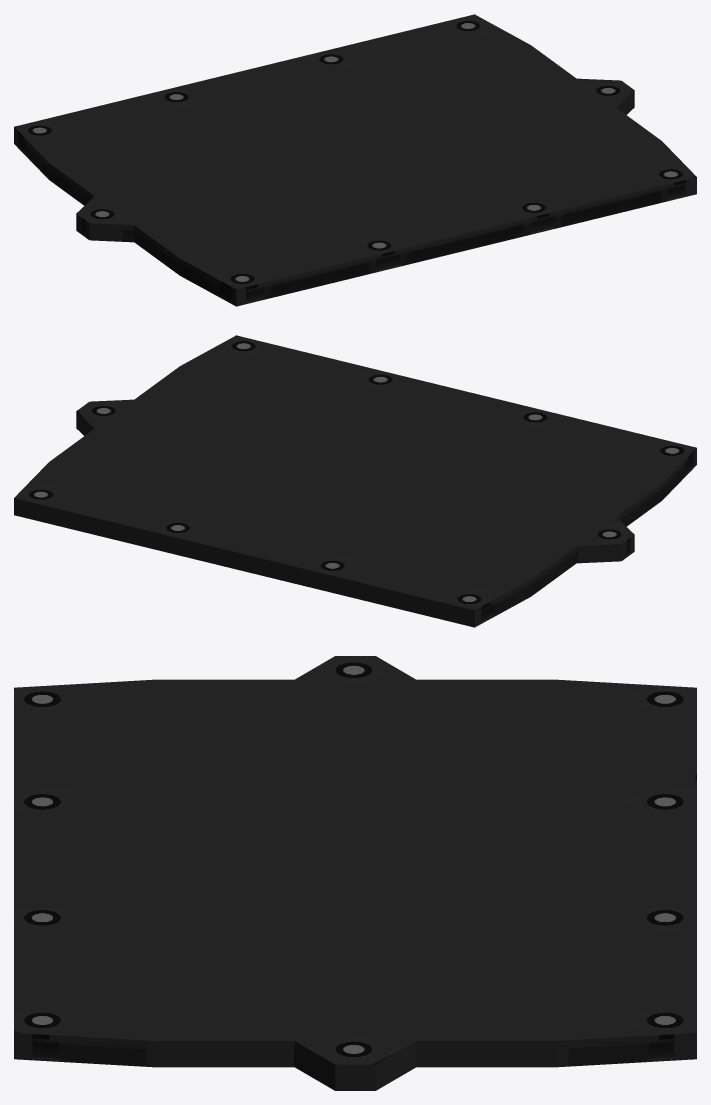
The model's file is hatch.dae.
3 renders of one model, top to bottom at view 1: azimuth 30°, elevation 25°; view 2: azimuth 150°, elevation 25°; view 3: azimuth 270°, elevation 25°, orthographic. The views are drawn at different scales.
Parts seen in each view (by area): view 1: AM3 Application Hatch LP; view 2: AM3 Application Hatch LP; view 3: AM3 Application Hatch LP.
Boxes of the visible parts, left/top/right/bottom form: AM3 Application Hatch LP: left=14, top=14, right=696, bottom=306; AM3 Application Hatch LP: left=14, top=335, right=696, bottom=627; AM3 Application Hatch LP: left=14, top=656, right=696, bottom=1090.
Size of the model in its own units: 0.1832 by 0.1294 by 0.0055.
1 material, 1 textured.
